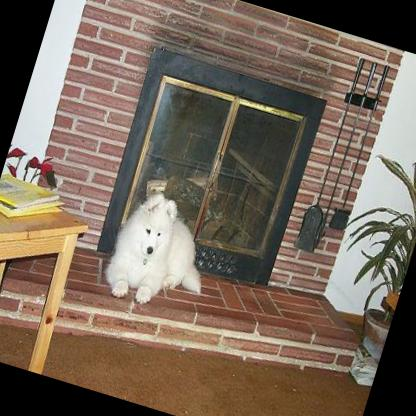Samoyed: (94, 178, 226, 318)
